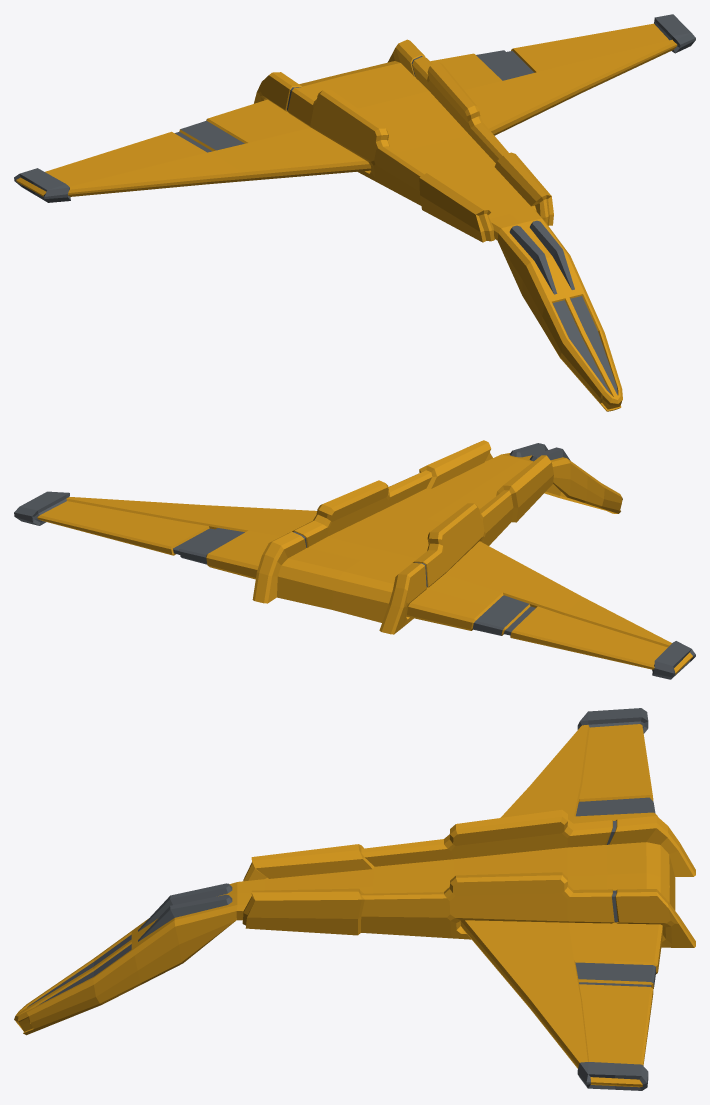
File: Fighter_04_Full_Wing_Yellow.fbx
3 renders of one model, top to bottom at view 1: azimuth 30°, elevation 25°; view 2: azimuth 150°, elevation 25°; view 3: azimuth 270°, elevation 25°, orthographic. The views are drawn at different scales.
Parts seen in each view (by area): view 1: Fighter_04_Full_Wing_Yellow; view 2: Fighter_04_Full_Wing_Yellow; view 3: Fighter_04_Full_Wing_Yellow.
Part boxes in pixels (x1,y1,x2,y2): Fighter_04_Full_Wing_Yellow: (14, 14, 695, 411); Fighter_04_Full_Wing_Yellow: (14, 440, 695, 679); Fighter_04_Full_Wing_Yellow: (14, 708, 695, 1090).
Bounding box in the file's own units: 1945 × 465 × 1509.
Materials: 1 (1 with a texture image).
